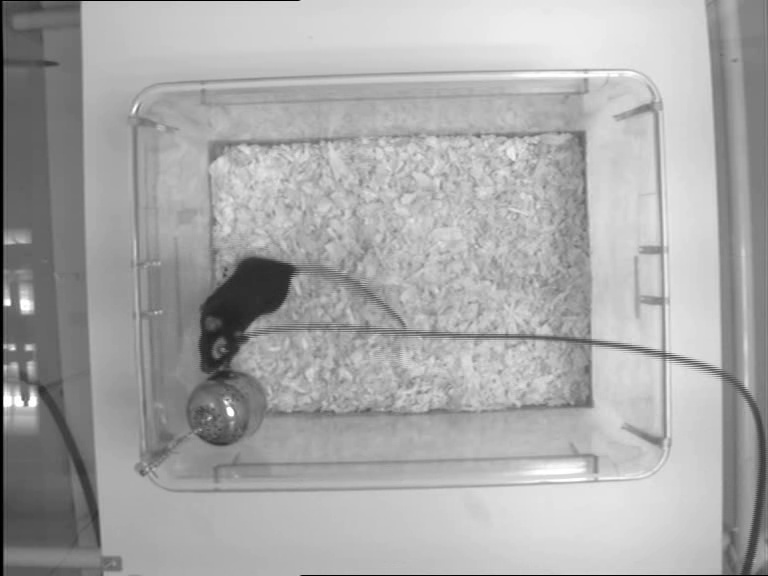mice: (200, 258, 409, 376)
